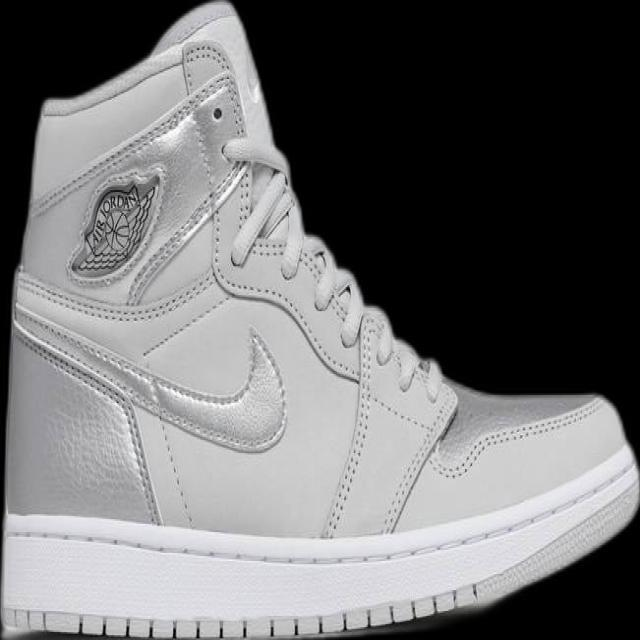J1_InsoleChar: (0, 0, 639, 639)
J1_ShoeLogo: (66, 168, 163, 284)
J1_StitchPattern: (12, 141, 454, 538), (0, 457, 638, 639), (224, 159, 444, 401), (10, 268, 288, 454), (10, 300, 196, 527), (28, 42, 245, 219), (318, 310, 448, 539), (1, 583, 482, 639), (124, 157, 252, 306), (430, 393, 605, 481), (319, 316, 379, 539), (228, 162, 305, 271)
